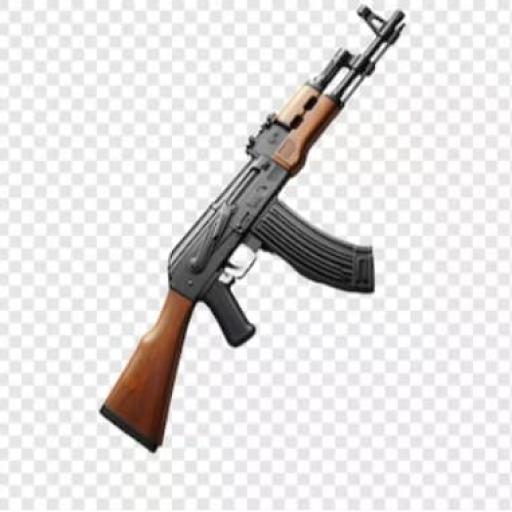Gun: (101, 7, 403, 450)
